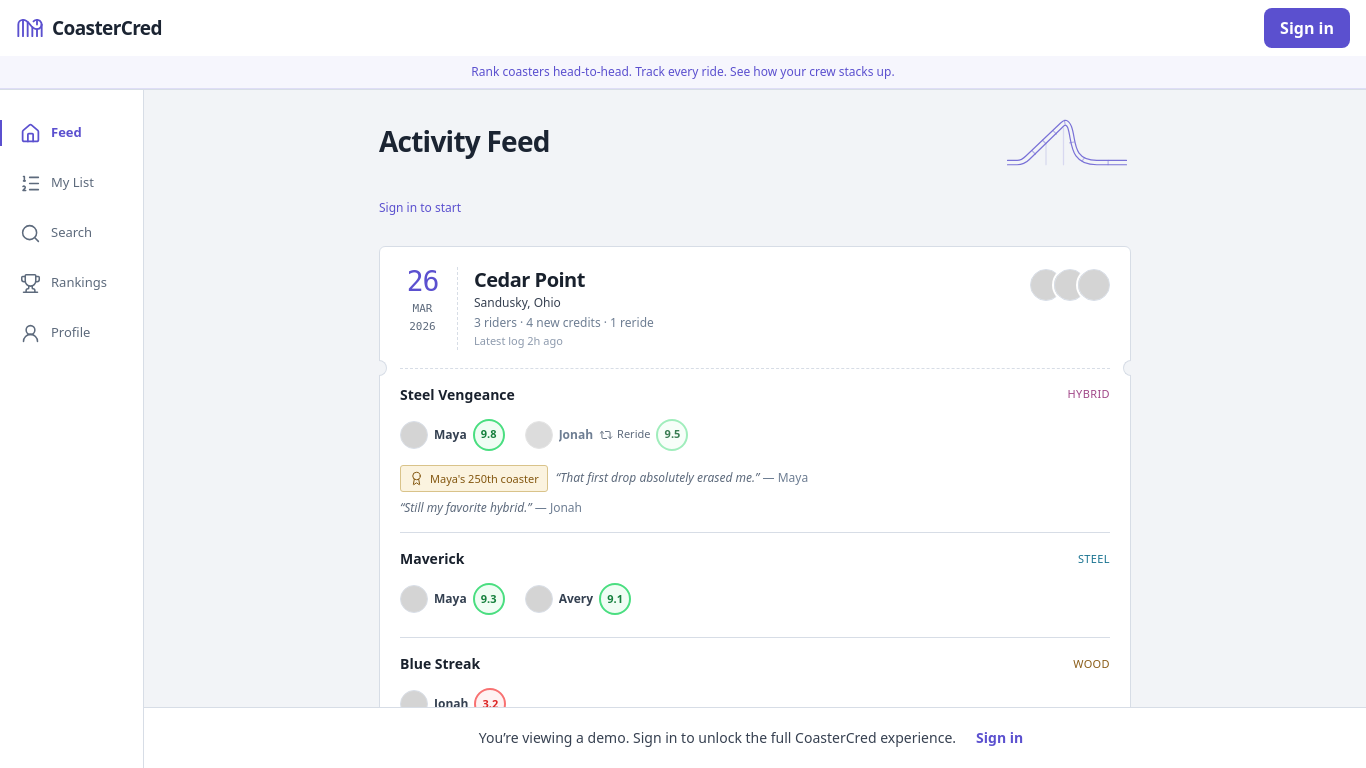
Test case: moves through page URLs with Back and Forward
Later steps or results of the test are not shown.
Click the link "My List" at (57, 183), box [20,172,94,194]
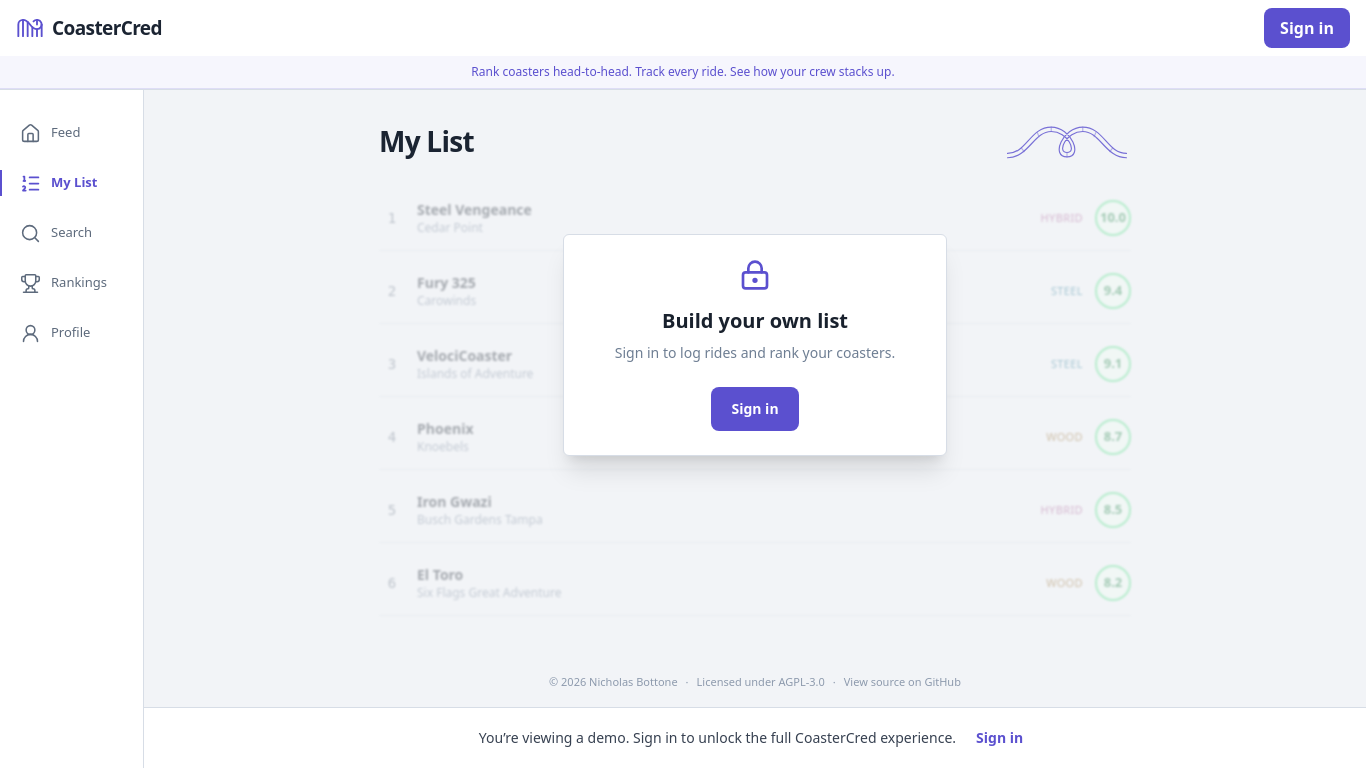
Expected: the heading "My List" is shown, [379,125,474,159]
Click the link "Rankings" at (64, 283), box [20,272,107,294]
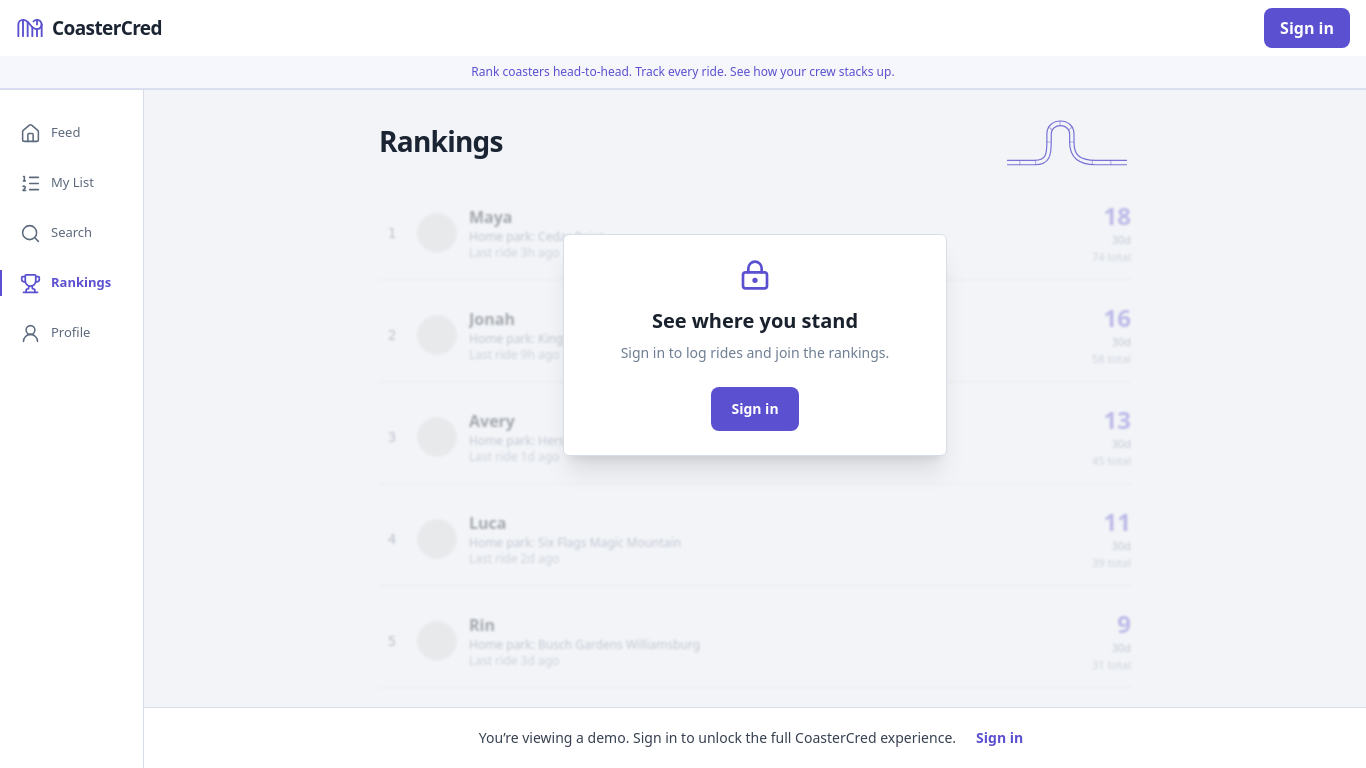
Expected: the heading "Rankings" is shown, [379,125,503,159]
